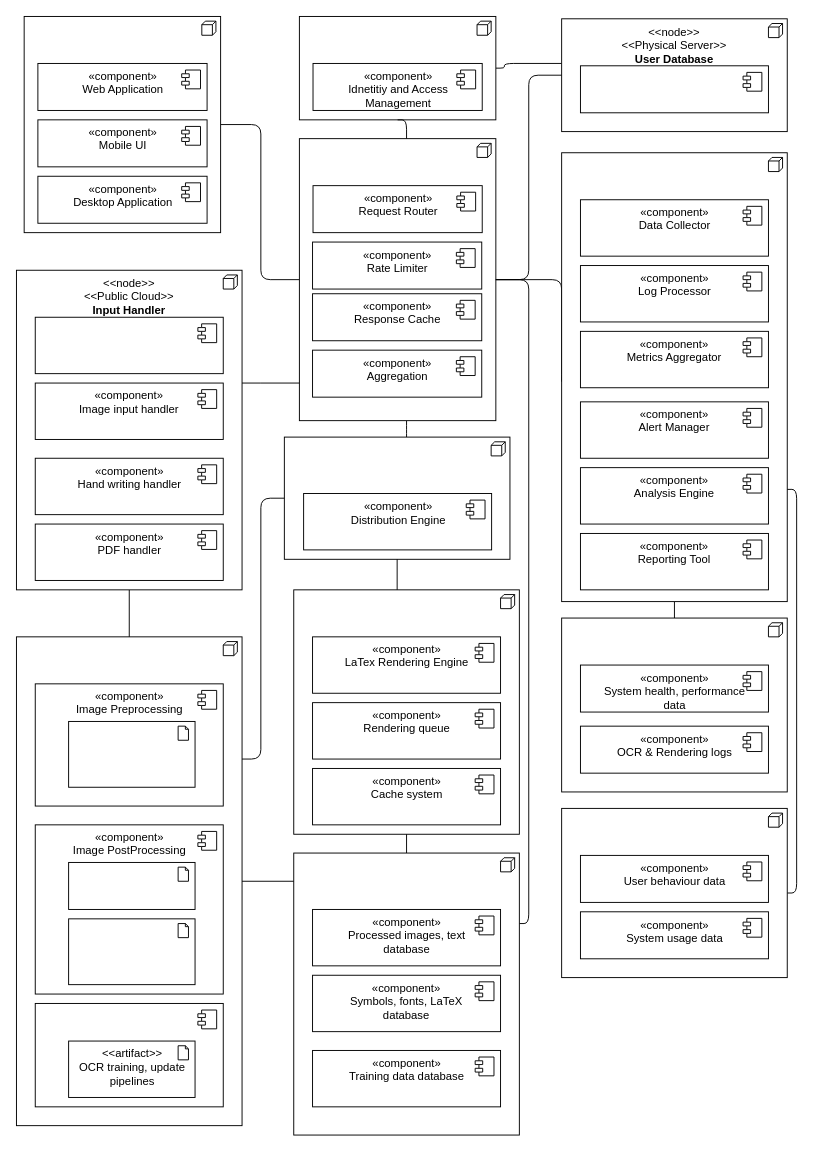
This 814x1152 diagram has some shape labels left out. The shapes that lost their labels are listed below. From the top down, each one's box as (x1, y1, x2, y2) in pixels, then its label:
(298, 16, 496, 120): <<node>> <<Private Cloud>> Authenticator Service
(580, 65, 768, 113): «c omponent » Account information
(23, 16, 221, 233): <<node>> <<Public Cloud>> Clieant Application
(298, 138, 496, 421): <<node>> <<Public Cloud>> API Gateway
(34, 316, 223, 374): «c omponent » Keyboard input handler
(561, 152, 787, 602): <<node>> <<Hybrod Cloud>> Monitoring & Analytics Server
(283, 436, 510, 559): <<node>> <<Public Cloud>> Load Balancer
(293, 589, 519, 834): <<node>> <<Private Clooud>> LaTeX Rendering
(561, 617, 787, 792): <<node>> <<Private Cloud>> Metrics & Logs Database
(68, 721, 195, 787): <<artifact>> Image processing (noise reduction, binarization, normalization)
(16, 636, 242, 1126): <<node>> <<Private Clooud with VM>> OCR Service
(68, 862, 195, 909): <<artifact>> Text recognition, Font recognition
(561, 807, 787, 978): <<node>> <<Private Cloud>> Analytics Database
(68, 918, 195, 985): <<artifact>> Contextual analysis (distinguish characters, symbols)
(293, 852, 519, 1135): <<node>> <<Private Cloud>> Input Database
(34, 1003, 223, 1107): «c omponent » Training
